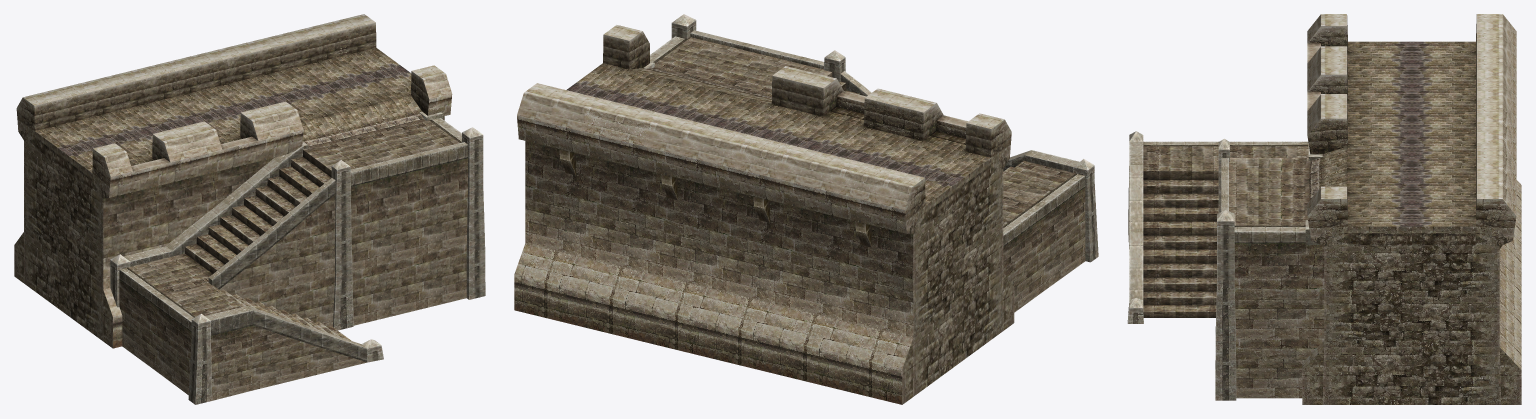
File: OZ_30_mi_gate02C.glb
3 views of the same model, side by side, from view 1: azimuth 30°, elevation 25°; view 2: azimuth 150°, elevation 25°; view 3: azimuth 270°, elevation 25° (orthographic). The views are drawn at different scales.
Parts seen in each view (by area): view 1: OM_30_mi_gate02C; view 2: OM_30_mi_gate02C; view 3: OM_30_mi_gate02C.
Boxes of the visible parts, x1,y1,x2,y2 form: OM_30_mi_gate02C: (14, 14, 485, 404); OM_30_mi_gate02C: (514, 14, 1098, 404); OM_30_mi_gate02C: (1127, 14, 1521, 404).
Bounding box in the file's own units: 20 × 10.38 × 17.99.
Materials: 4 (4 with a texture image).
